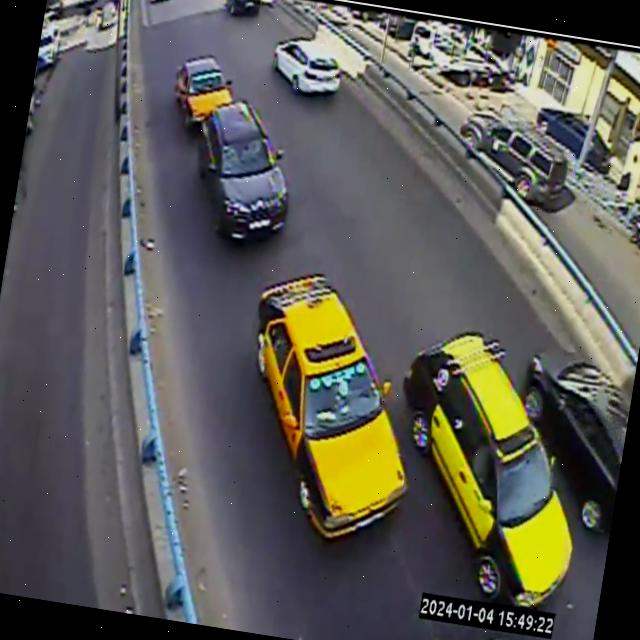car: (405, 333, 572, 607), (256, 274, 408, 538), (523, 351, 629, 532), (198, 102, 289, 240), (460, 110, 567, 206), (174, 55, 232, 124), (272, 40, 340, 93)
